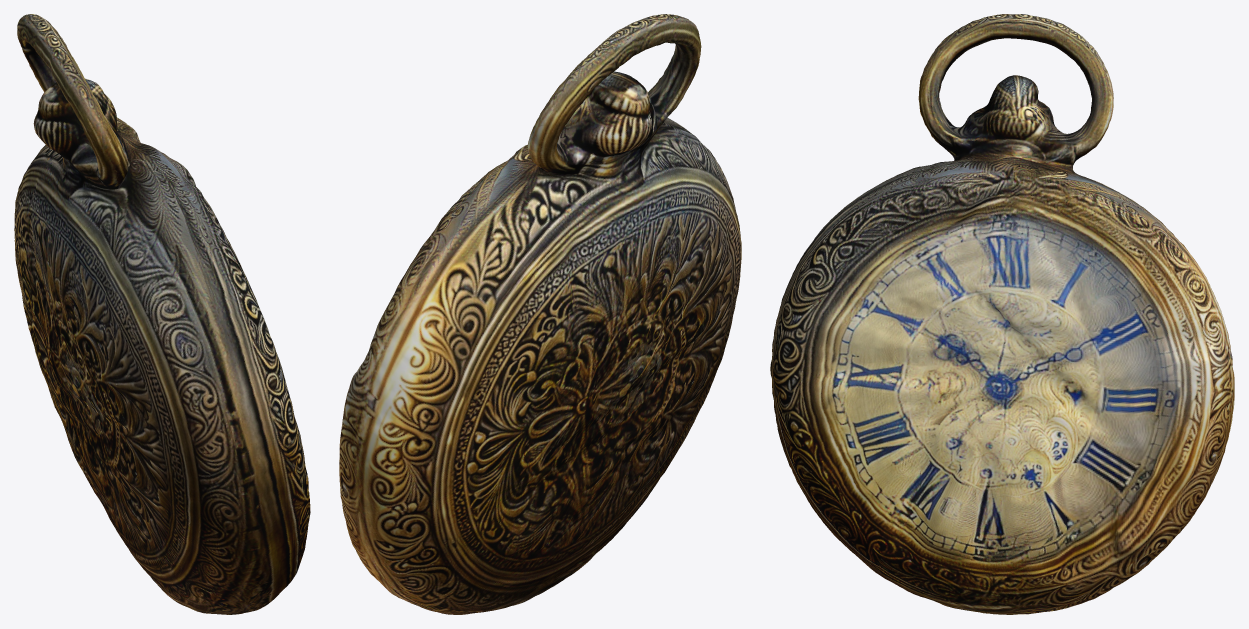
The model's file is pedestal_relic.glb.
3 renders of one model, left to right at view 1: azimuth 30°, elevation 25°; view 2: azimuth 150°, elevation 25°; view 3: azimuth 270°, elevation 25°, orthographic. The views are drawn at different scales.
Visible parts, largest first — view 1: Object_4; view 2: Object_4; view 3: Object_4.
Part boxes in pixels (x1,y1,x2,y2): Object_4: [14, 14, 310, 614]; Object_4: [339, 14, 741, 614]; Object_4: [770, 14, 1234, 614].
Bounding box in the file's own units: 0.4934 × 1.2 × 0.9513.
Materials: 1 (1 with a texture image).
